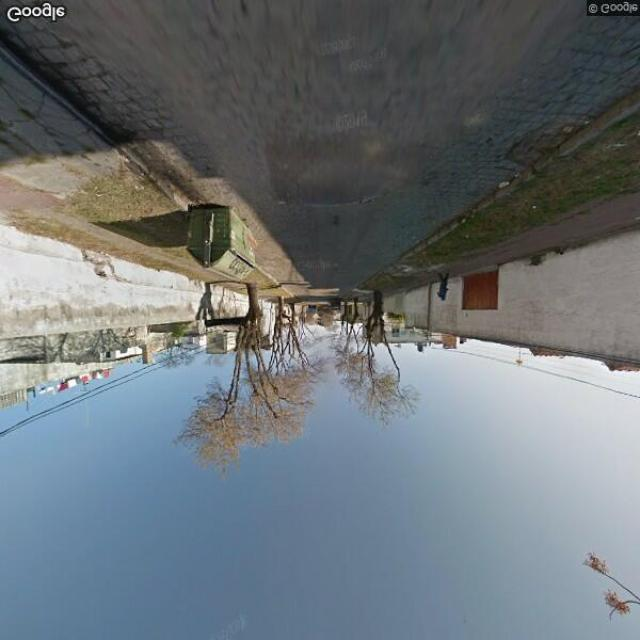garbage container: (185, 194, 266, 289)
